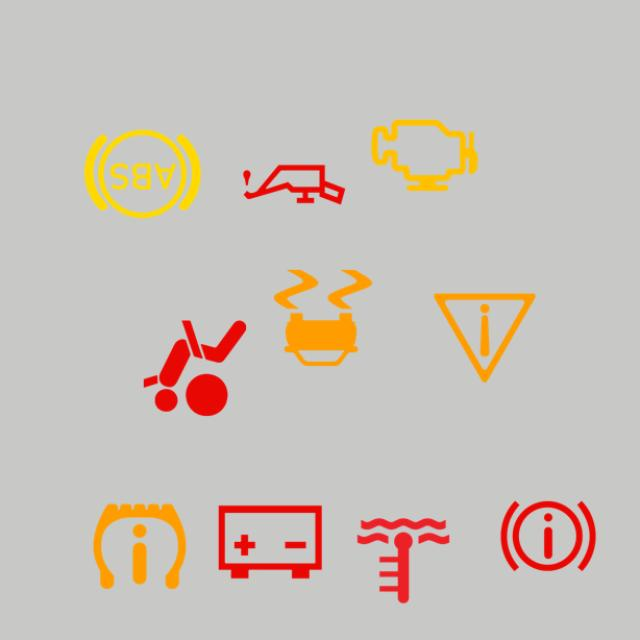Anti Lock Braking System: (80, 110, 206, 238)
Braking System Issue: (485, 472, 612, 600)
Charging System Issue: (206, 478, 334, 606)
Check Engine: (360, 92, 488, 219)
Electronic Stability Problem -ESP-: (259, 255, 386, 382)
Engine Overheating Warning Light: (340, 498, 467, 624)
Low Engine Oil Warning Light: (230, 121, 358, 248)
Low Tire Pressure Warning Light: (76, 482, 203, 610)
Master warning light: (421, 274, 548, 401)
SRS-Airbag: (132, 304, 258, 432)
